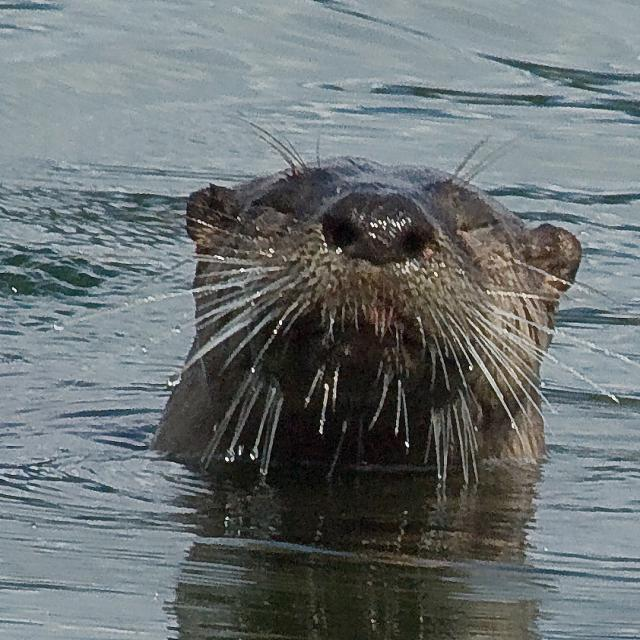otter: (152, 158, 584, 465)
